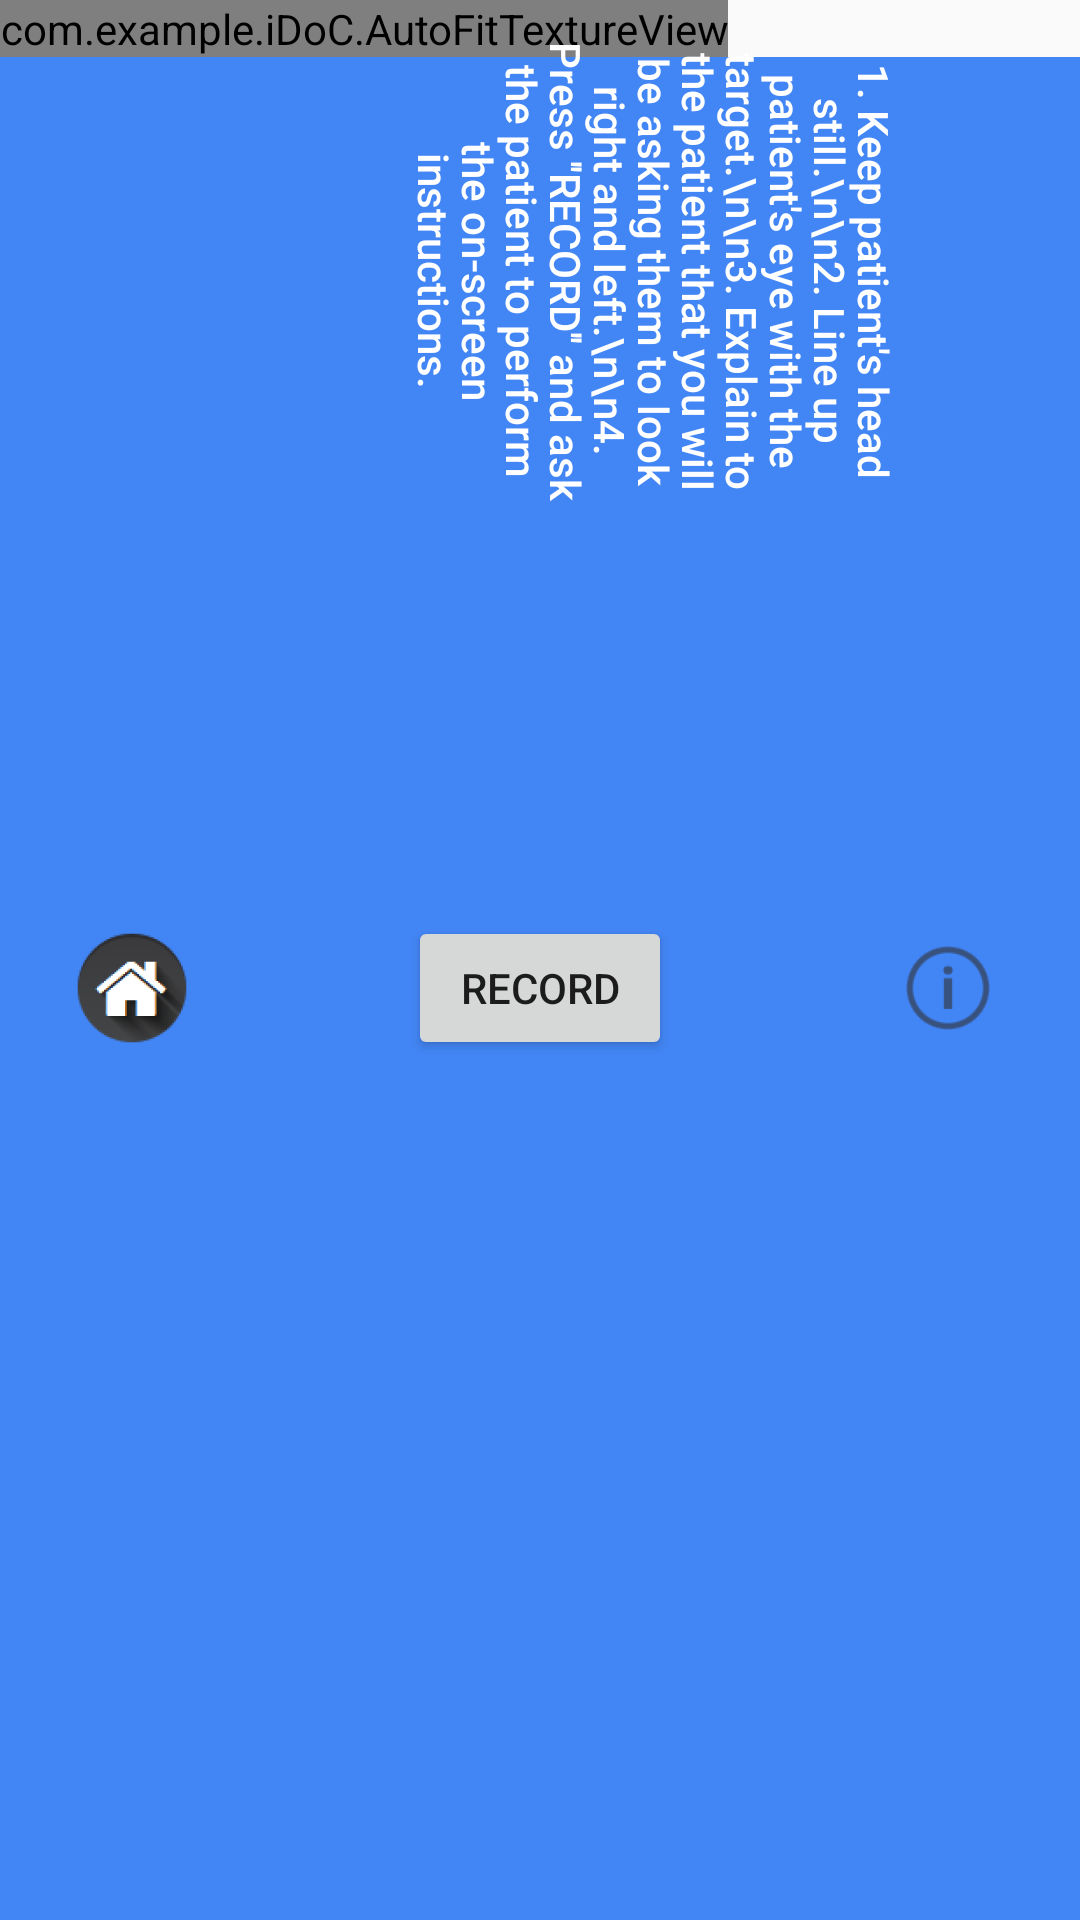

Icon click points for this 1080px x 1920px phone screenshot, format point (x, y):
home butt: point (132, 988)
info: point (948, 988)
